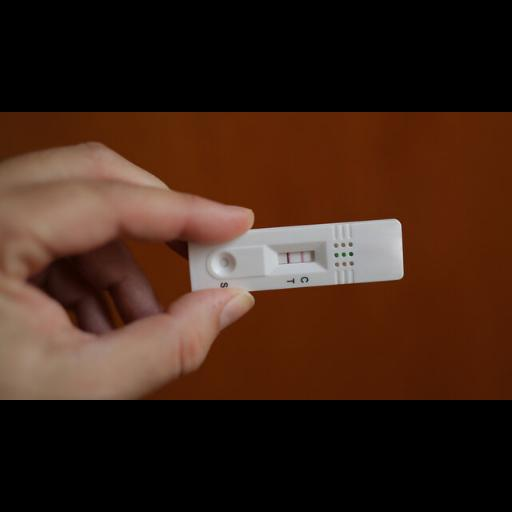Pos: (189, 220, 406, 293)
